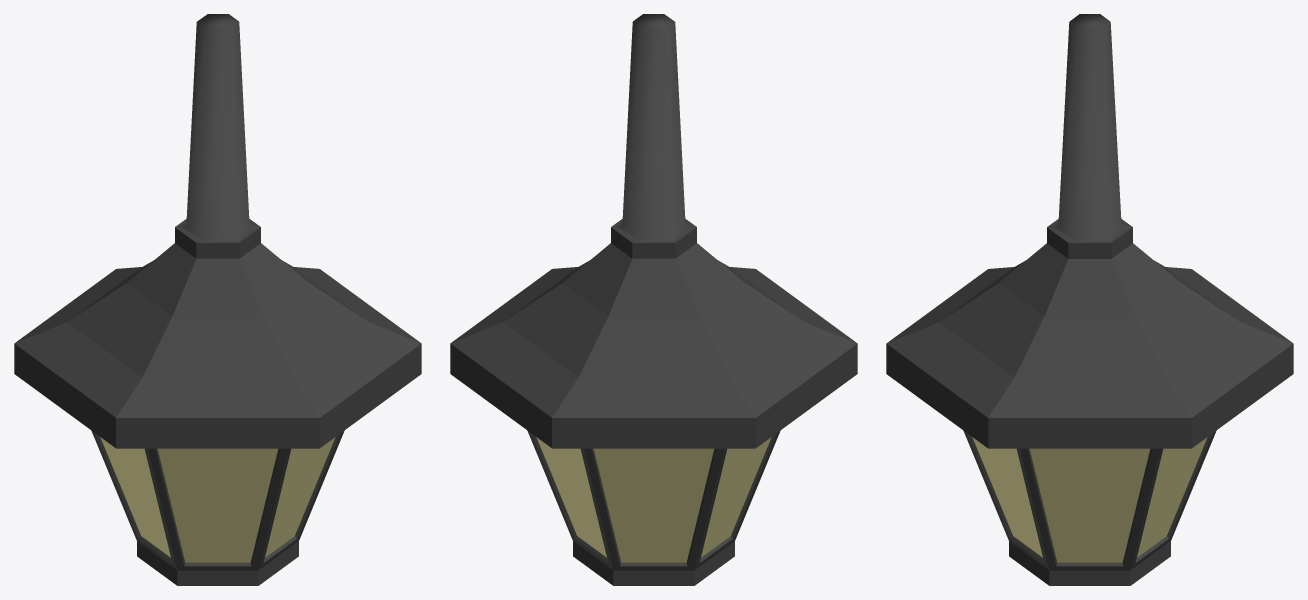
File: shipLamp.fbx
The picture shows the model from 3 angles, left to right: view 1: azimuth 30°, elevation 25°; view 2: azimuth 150°, elevation 25°; view 3: azimuth 270°, elevation 25°; orthographic projection.
Visible parts, largest first — view 1: Cylinder.001; view 2: Cylinder.001; view 3: Cylinder.001.
Part boxes in pixels (x1=…): Cylinder.001: x1=14, y1=14, x2=421, y2=585; Cylinder.001: x1=450, y1=14, x2=857, y2=585; Cylinder.001: x1=886, y1=14, x2=1293, y2=585.
Bounding box in the file's own units: 72.25 × 121 × 83.42.
